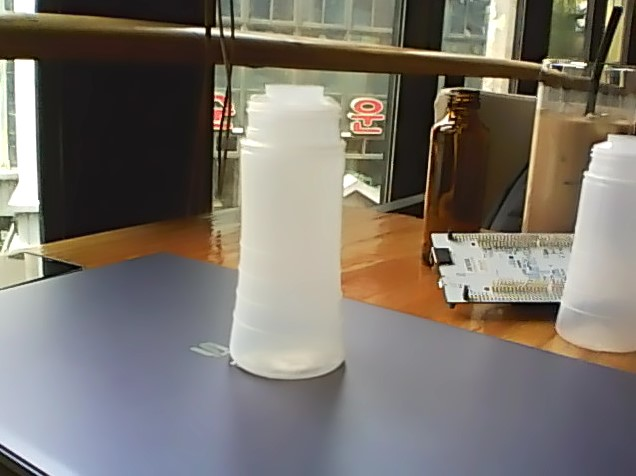Plastic: (226, 79, 347, 379)
